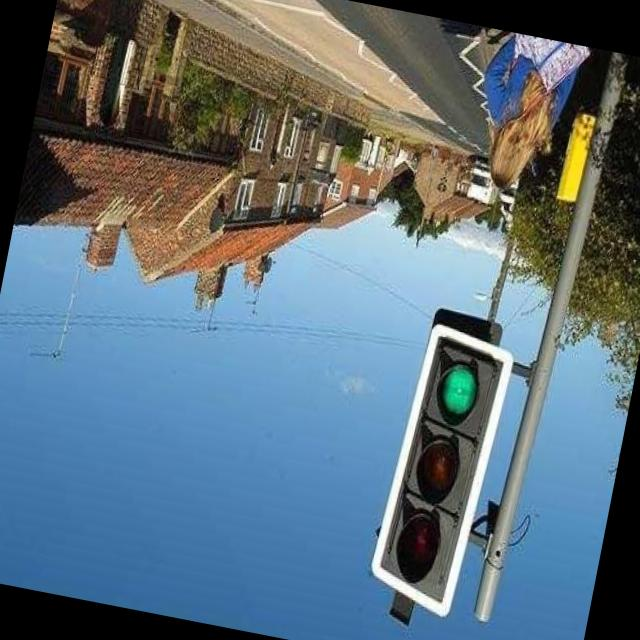green-lights: (402, 351, 507, 437)
